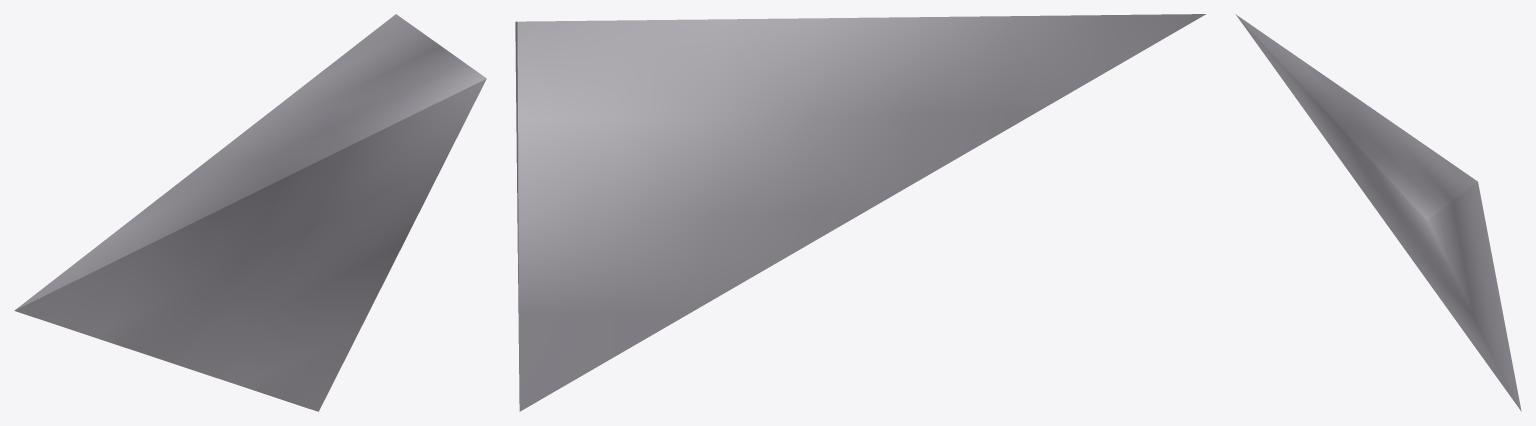
3 renders of one model, left to right at view 1: azimuth 30°, elevation 25°; view 2: azimuth 150°, elevation 25°; view 3: azimuth 270°, elevation 25°, orthographic. The views are drawn at different scales.
Size of the model in its own units: 0.9973 by 0.6217 by 0.6674.
1 material, 1 textured.
